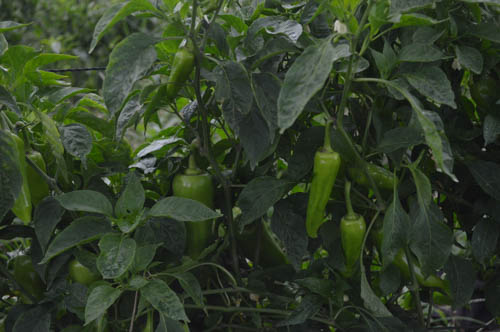ChiliPepper: (168, 172, 217, 251), (380, 237, 448, 293), (305, 151, 334, 238), (2, 136, 32, 218), (337, 215, 365, 273), (167, 48, 196, 101), (25, 153, 53, 200), (351, 162, 396, 189)
